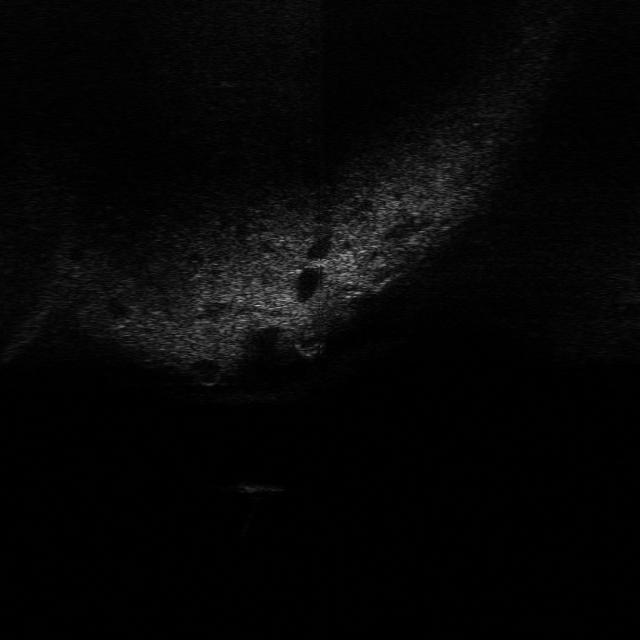ball: (287, 324, 329, 358)
cube: (218, 472, 287, 498)
